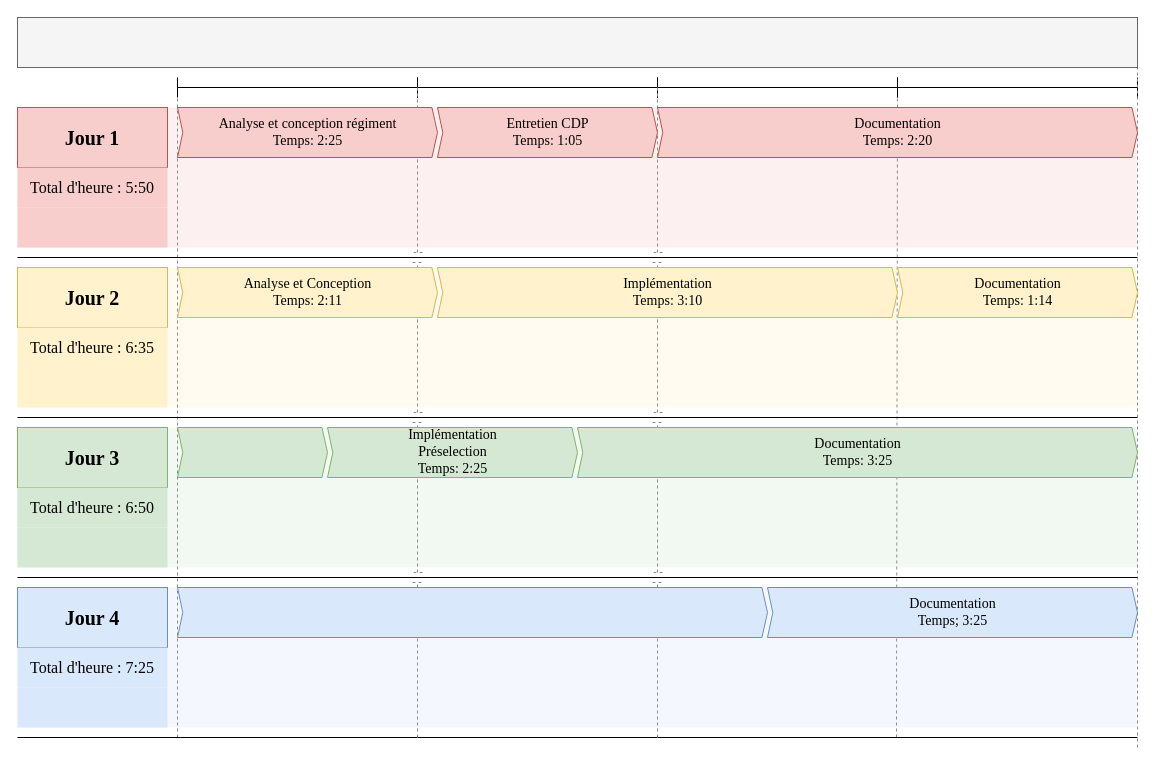
Some shapes in this 1156 by 766 pixel diagram are drawn without their labels. The centre of each missing label's shape, as x and y in pixels:
"Analyse et Conception Temps: 4:00" goes at pixel 472 612.
"Création des entitées" goes at pixel 92 387.
"Data Structure des entitées" goes at pixel 92 227.
"Documentation Temps: 1:00" goes at pixel 252 452.
"Ordre de Placement" goes at pixel 92 707.
"Selection des entitées" goes at pixel 92 547.
"Semaine 2 (09.05.2022 - 12.05.2022): Entitées" goes at pixel 577 42.
